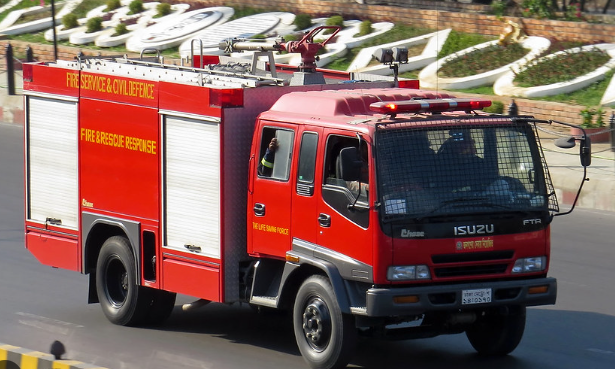Fire truck: (18, 22, 593, 364)
